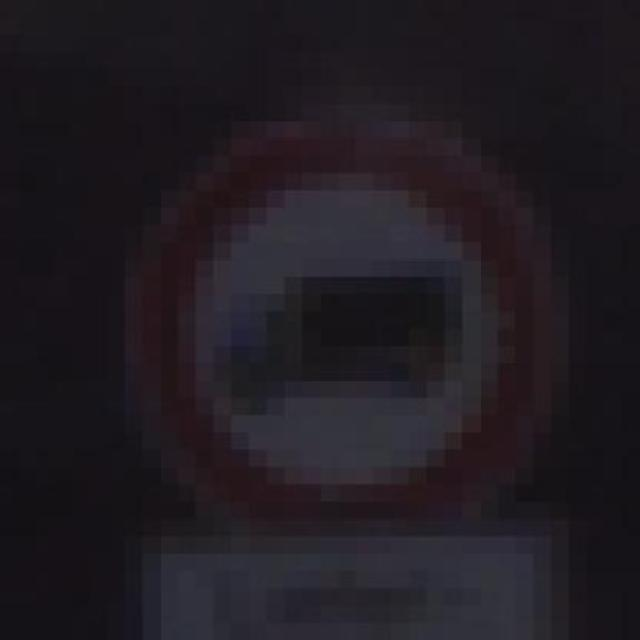Truck traffic is prohibited: (71, 51, 587, 572)
